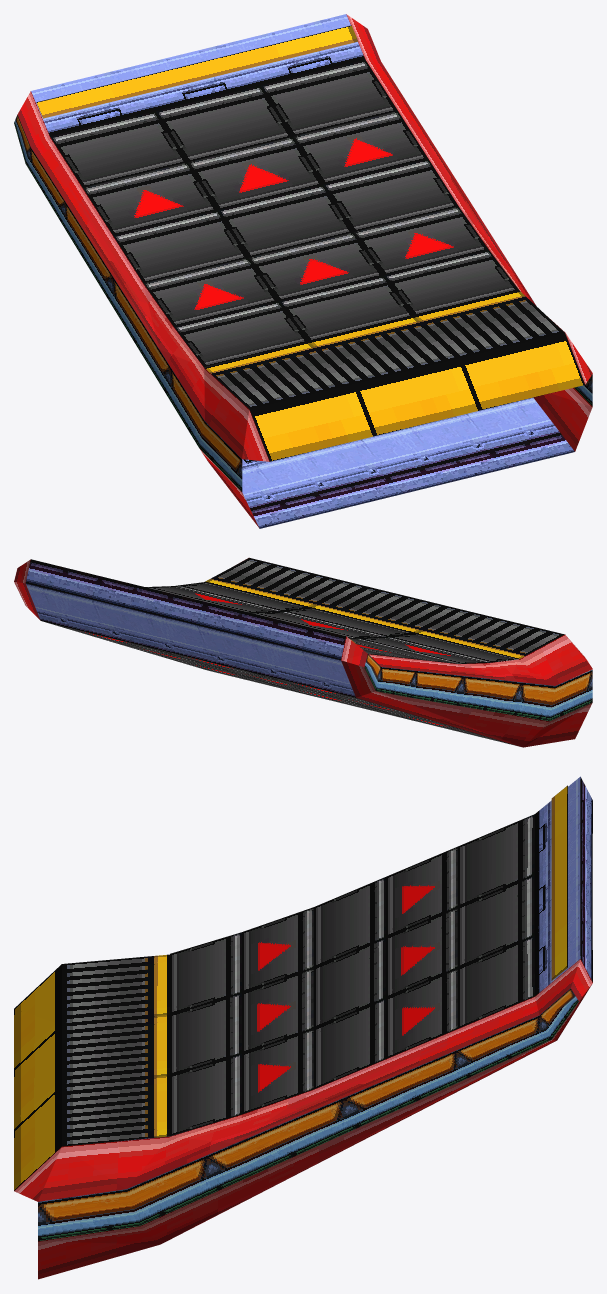
Rendered from dash_panel_triple.obj.
3 views of the same model, one above another, from view 1: azimuth 30°, elevation 25°; view 2: azimuth 150°, elevation 25°; view 3: azimuth 270°, elevation 25° (orthographic). The views are drawn at different scales.
Visible parts, largest first — view 1: Object_2, Object_1; view 2: Object_2, Object_1; view 3: Object_2, Object_1.
Part boxes in pixels (x1,y1,x2,y2): Object_2: [14, 14, 592, 528]; Object_1: [50, 60, 519, 452]; Object_2: [14, 557, 592, 747]; Object_1: [44, 582, 520, 746]; Object_2: [14, 776, 592, 1279]; Object_1: [161, 814, 534, 1137].
Bounding box in the file's own units: 40.06 × 29.5 × 48.28.
5 materials, 5 textured.
